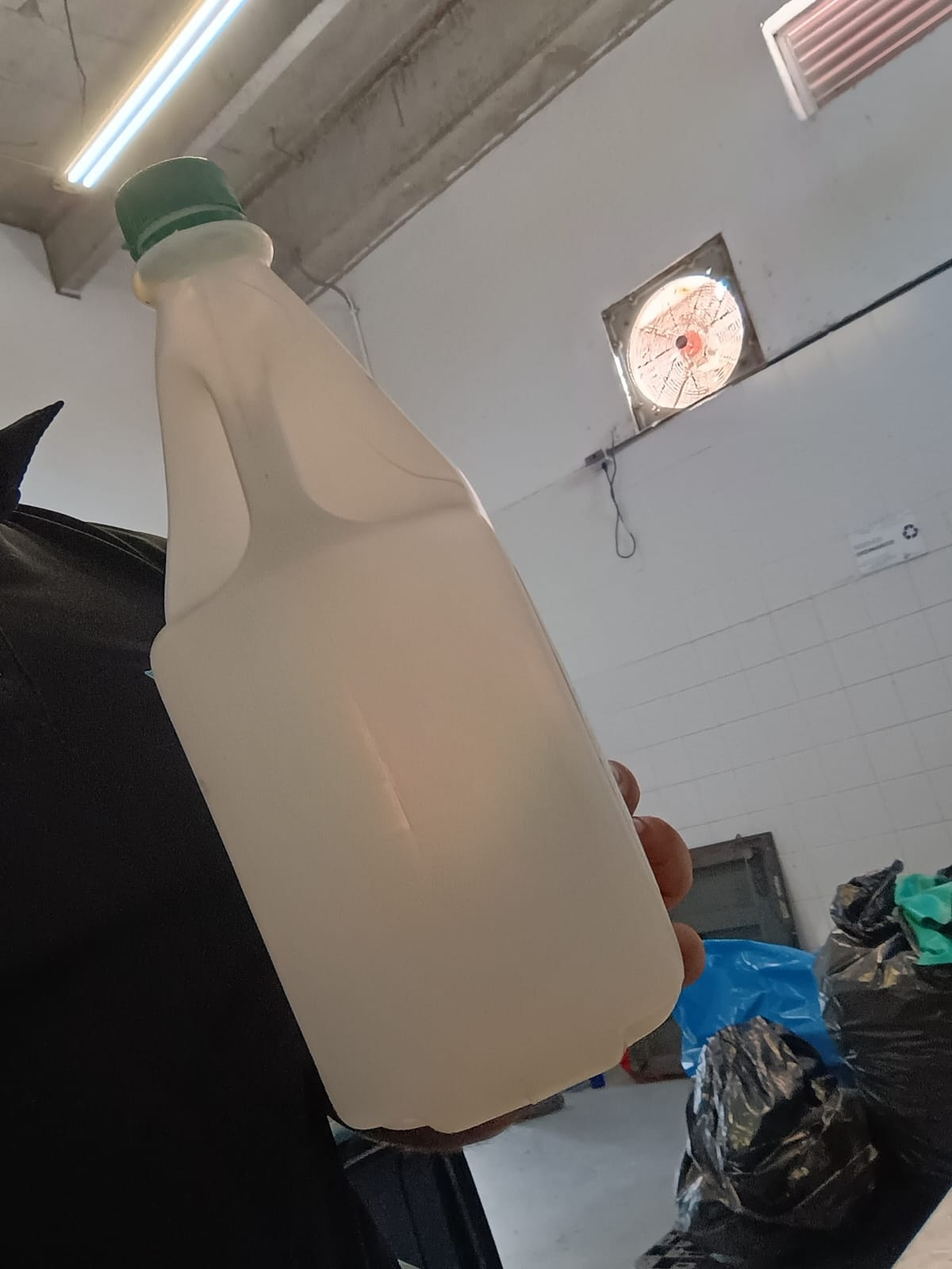Plastico: (108, 154, 687, 1133)
